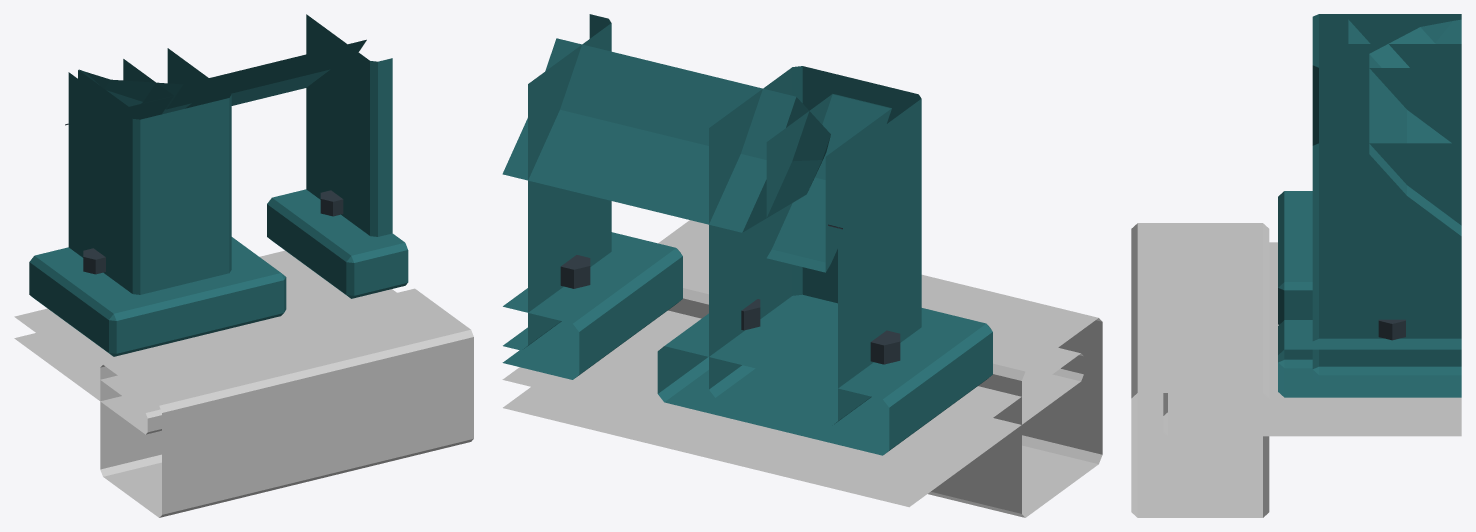
The model's file is cell_15.obj.
3 renders of one model, left to right at view 1: azimuth 30°, elevation 25°; view 2: azimuth 150°, elevation 25°; view 3: azimuth 270°, elevation 25°, orthographic. The views are drawn at different scales.
Size of the model in its own units: 1 by 1 by 0.8225.
